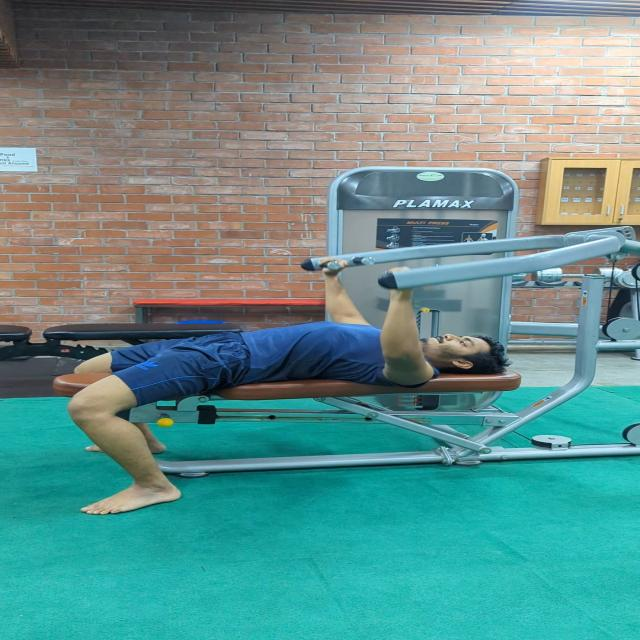Normal_BrenchPress: (43, 247, 502, 556)
